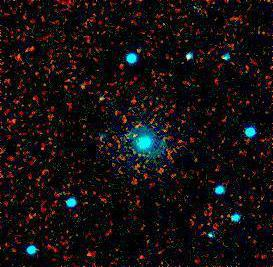star: (76, 243, 106, 267)
